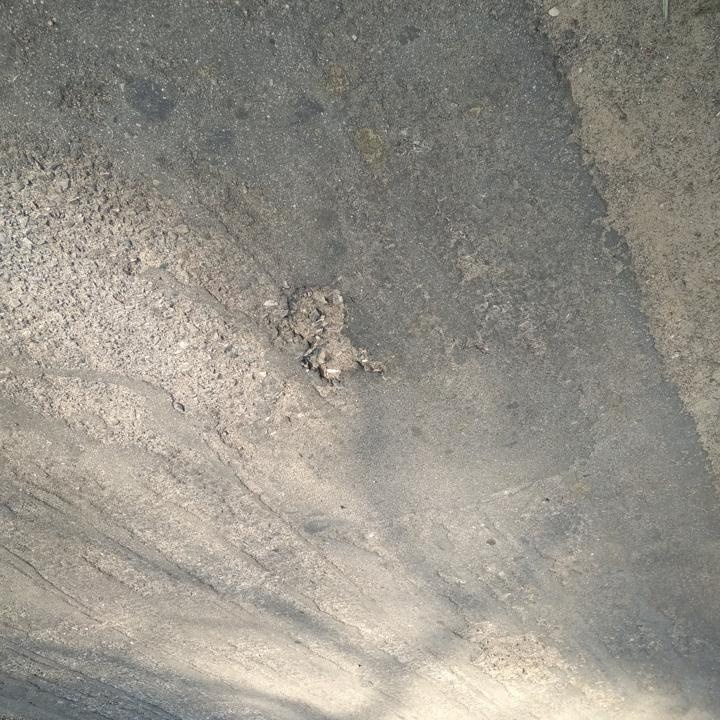pothole: (279, 283, 391, 389), (449, 614, 567, 685)
